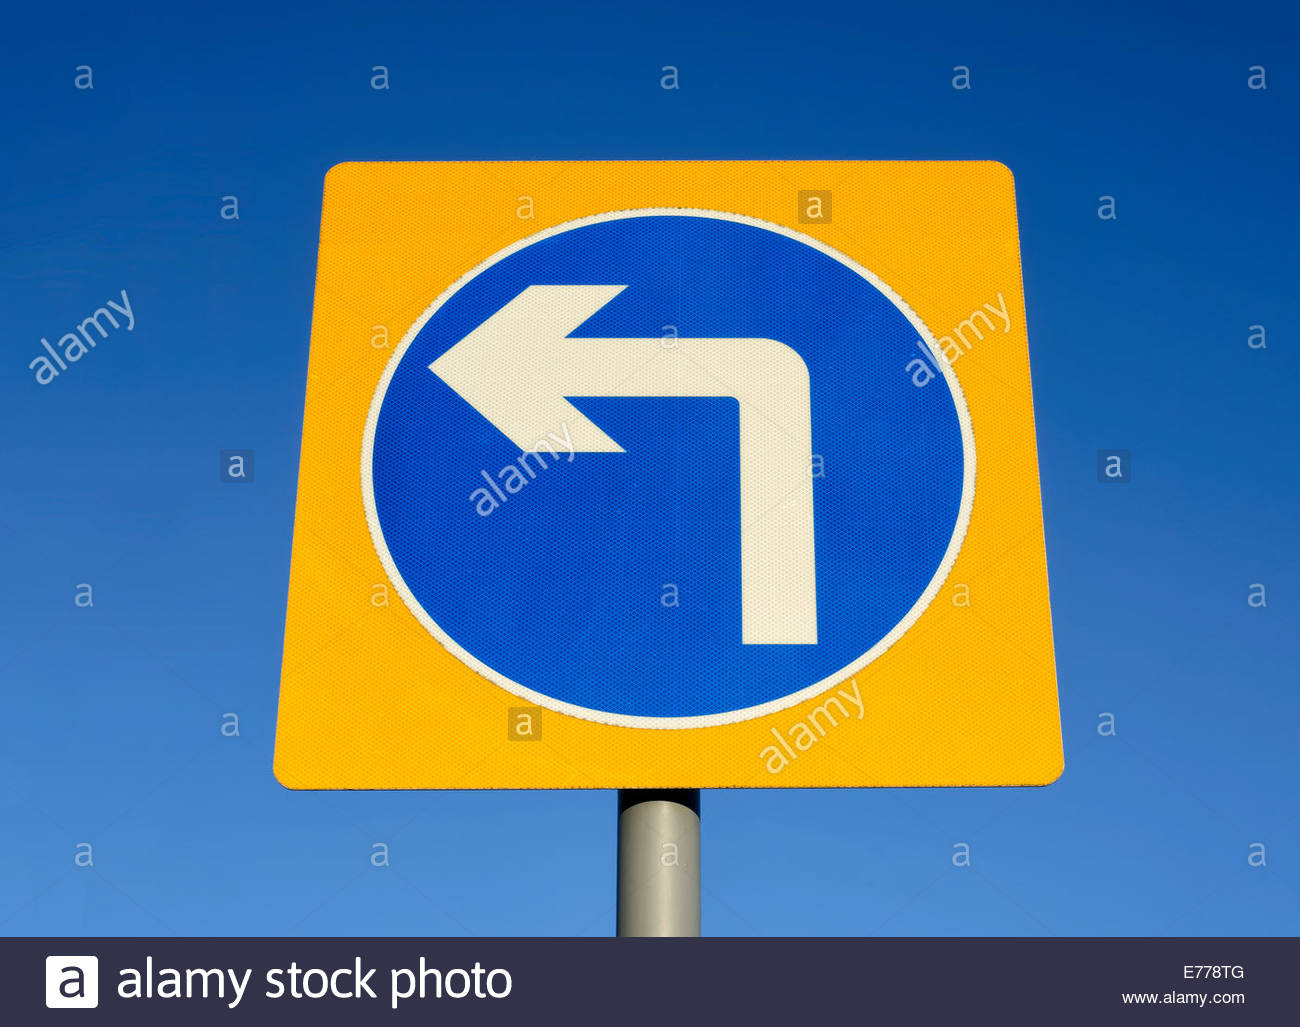left: (422, 275, 844, 659)
